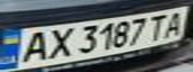1: (97, 20, 118, 51)
3: (75, 22, 100, 54)
7: (127, 16, 151, 46)
8: (112, 18, 133, 48)
A: (12, 29, 54, 64), (160, 8, 190, 38)
T: (145, 11, 172, 42)
X: (42, 25, 75, 61)
